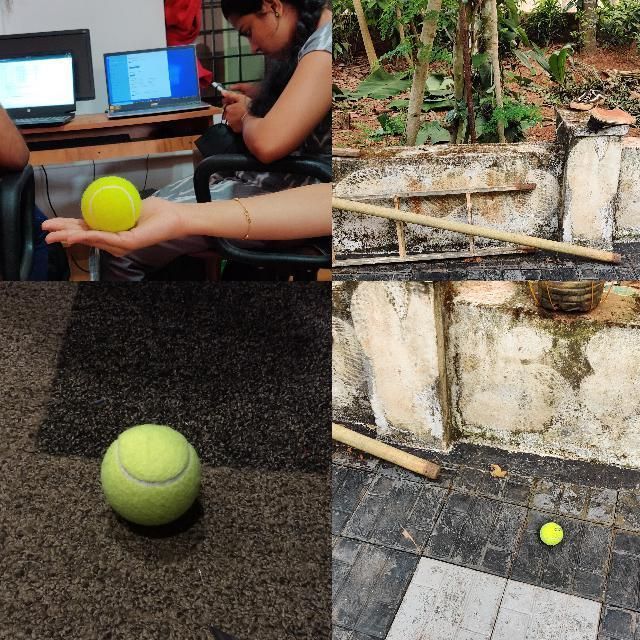tennis-ball: (100, 422, 202, 526), (81, 176, 140, 230), (539, 522, 563, 544)
